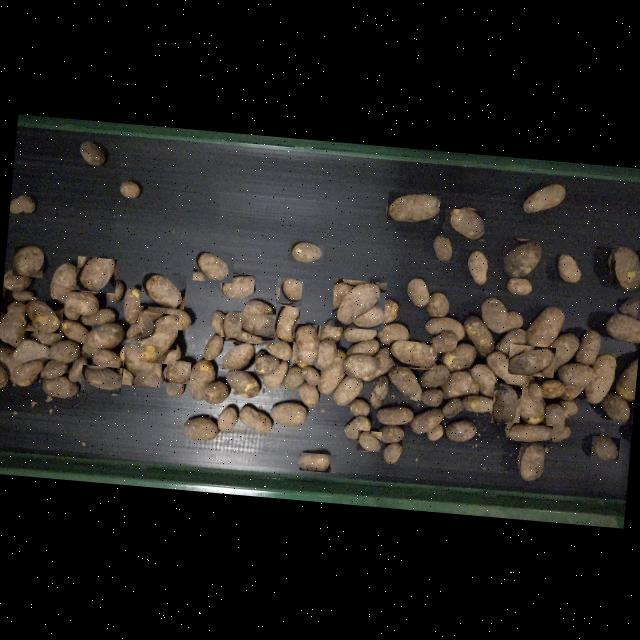Diseased-fungal potato: (330, 277, 386, 329), (138, 311, 178, 364), (523, 303, 566, 350), (120, 341, 162, 386), (220, 310, 282, 340), (501, 236, 544, 279), (138, 270, 186, 308), (385, 190, 439, 222), (506, 342, 554, 377), (606, 243, 640, 292), (520, 180, 566, 216), (74, 254, 116, 292), (142, 271, 185, 308), (386, 338, 436, 368), (22, 296, 63, 332), (192, 249, 234, 282), (442, 207, 484, 240), (317, 355, 348, 398), (185, 359, 215, 403), (490, 382, 521, 424), (290, 322, 320, 364), (79, 363, 121, 393), (11, 242, 44, 276), (504, 420, 552, 443), (552, 252, 585, 285), (605, 311, 640, 342), (517, 441, 544, 481), (196, 251, 232, 280), (226, 366, 258, 398), (238, 404, 272, 434), (220, 340, 254, 370), (272, 304, 300, 338), (286, 237, 324, 262), (220, 271, 254, 298), (272, 401, 308, 426), (182, 414, 216, 440), (589, 434, 619, 462), (342, 320, 376, 344), (289, 239, 321, 264), (274, 277, 302, 305), (298, 451, 335, 472), (344, 413, 370, 440), (164, 358, 190, 382), (278, 276, 302, 302), (355, 428, 381, 451), (216, 404, 237, 432)
